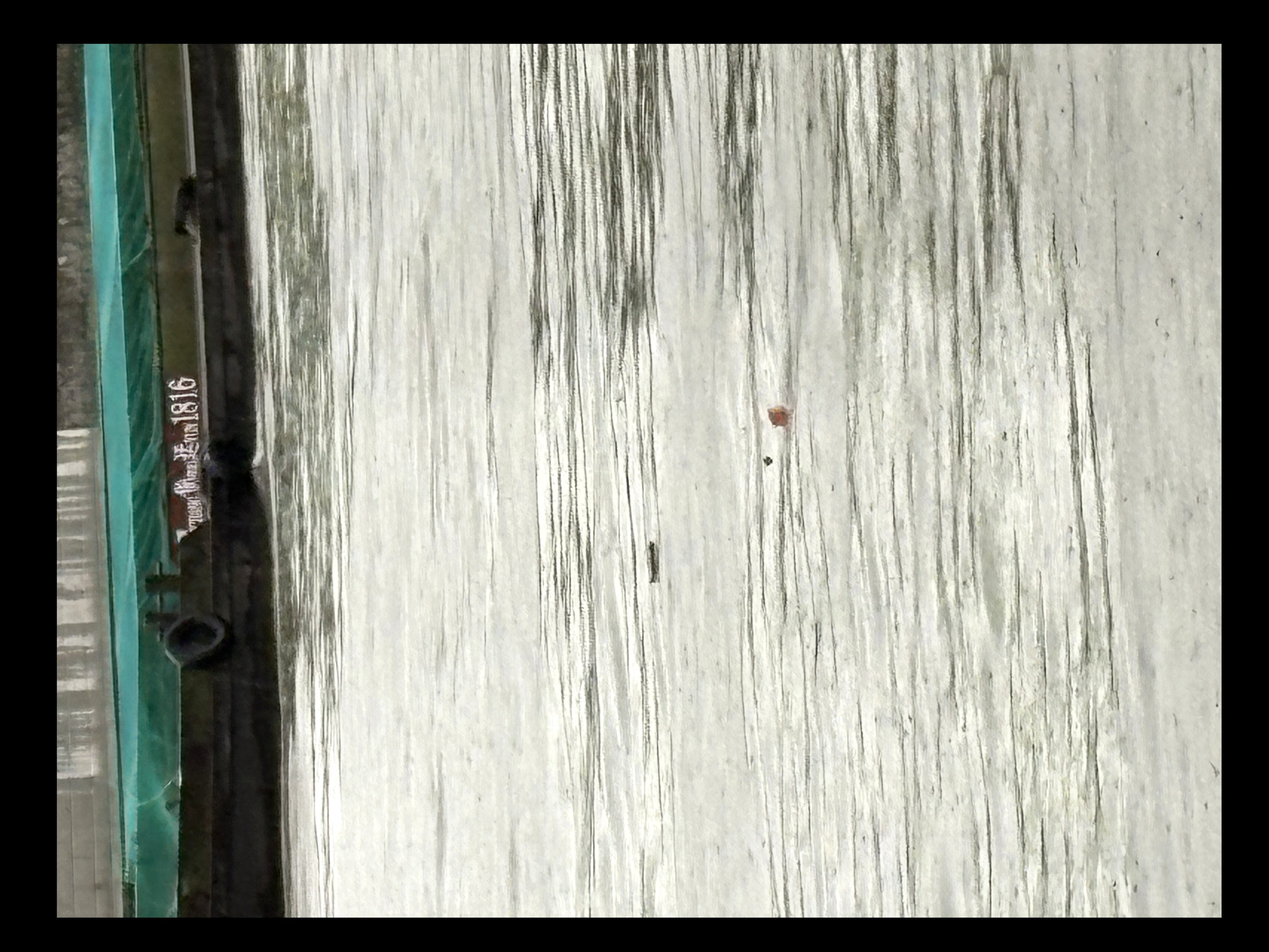Natural wastes: (778, 395, 812, 426), (658, 529, 682, 569)
